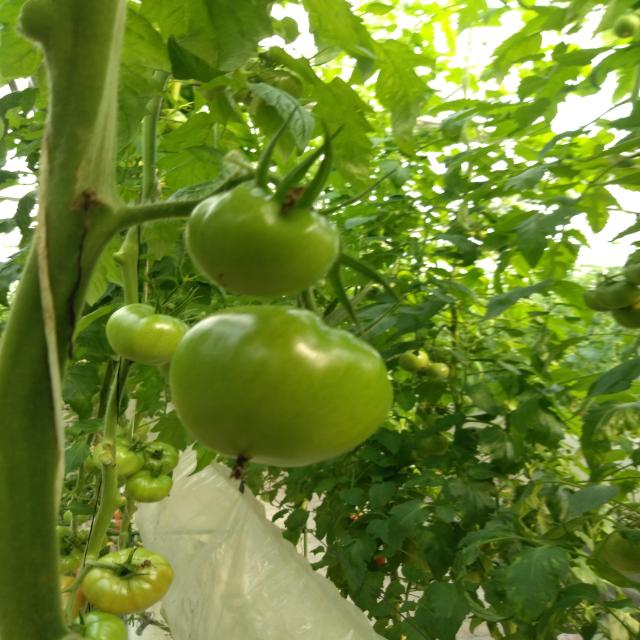yesil: (100, 160, 414, 491)
